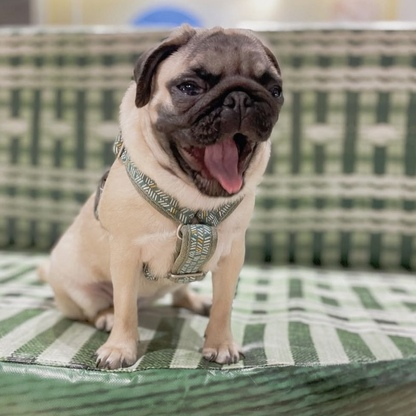Pug: (32, 20, 289, 374)
